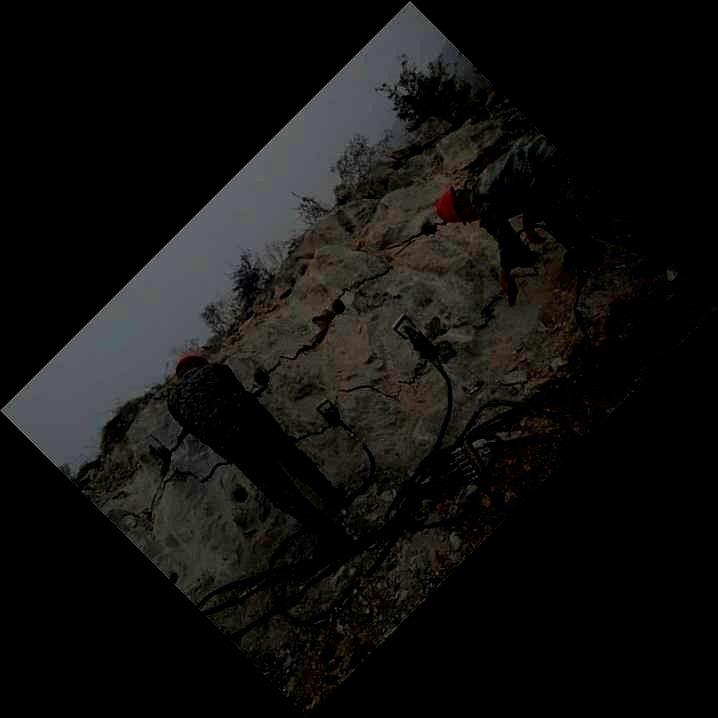helmet: (434, 185, 475, 227), (175, 352, 209, 381)
